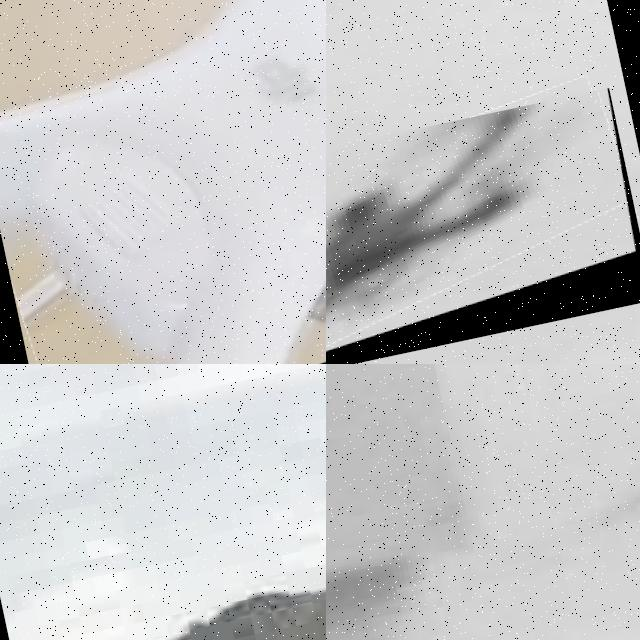0: (326, 87, 640, 364)
drone: (0, 0, 326, 364)
